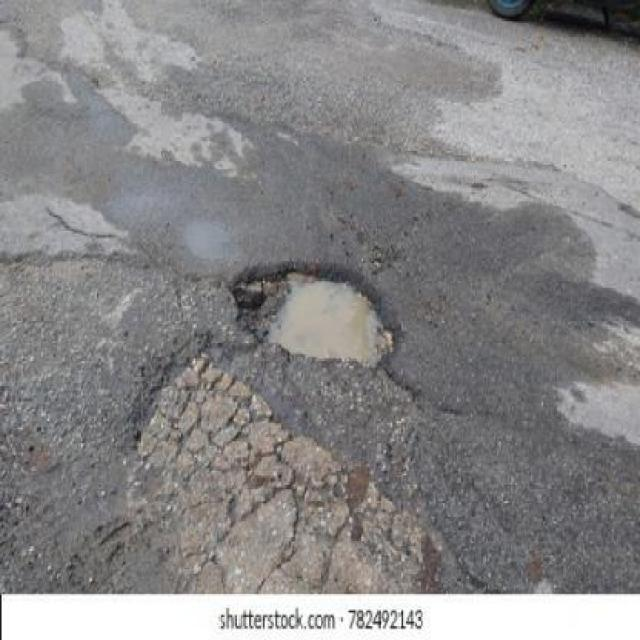Pothole: (230, 260, 398, 371)
